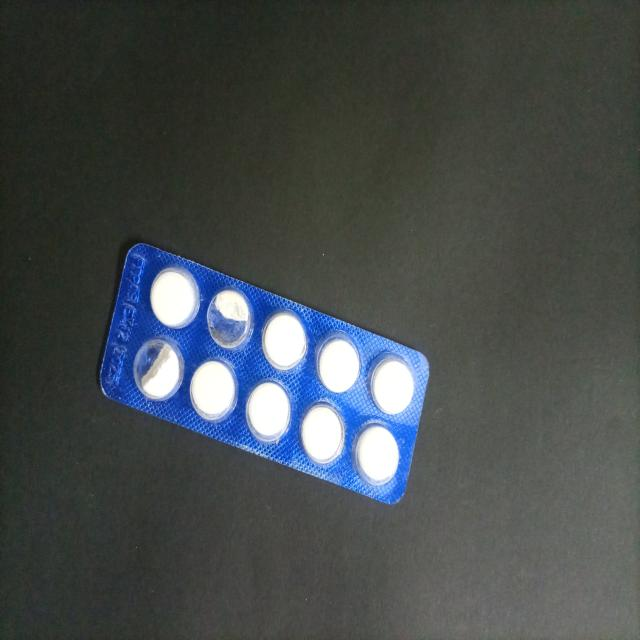defect: (132, 333, 186, 403), (205, 286, 256, 355)
